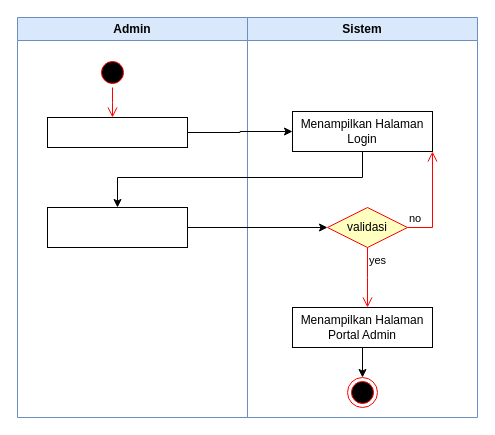
This 495x435 diagram has some shape labels left out. Here are the shapes that lost their labels. From the top down, the centre of each, then its label:
pixel 117 132: Mengakses Sistem
pixel 117 227: Mengimput Username & Password
